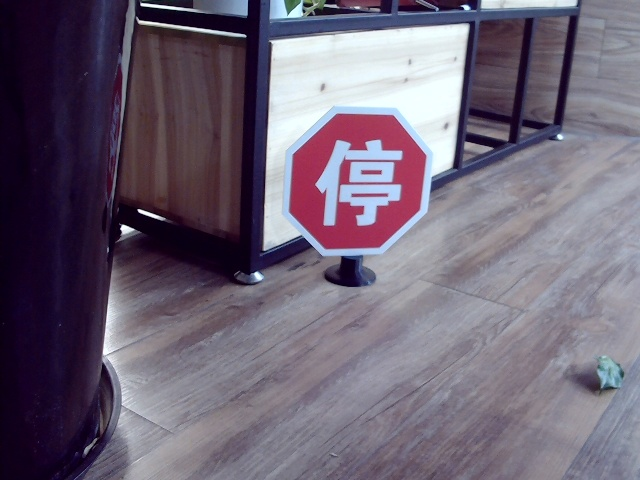stop: (313, 134, 403, 224)
